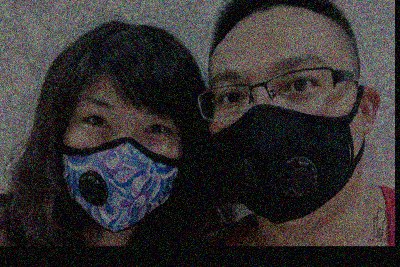with_mask: (207, 53, 358, 226), (59, 93, 185, 234)
